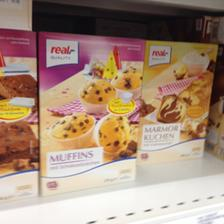Kuchen: (36, 29, 144, 198), (141, 36, 219, 164)
